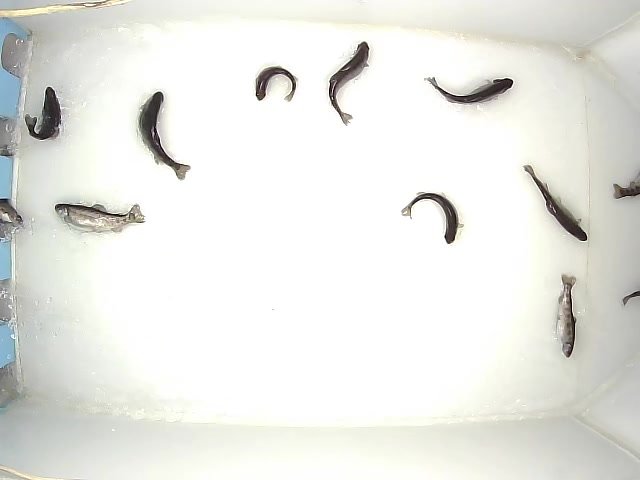fish: (520, 163, 588, 242), (136, 91, 192, 182), (328, 40, 371, 127), (400, 191, 465, 245), (54, 203, 146, 236), (423, 75, 514, 105), (552, 273, 578, 360), (24, 85, 61, 143), (254, 64, 299, 104)
